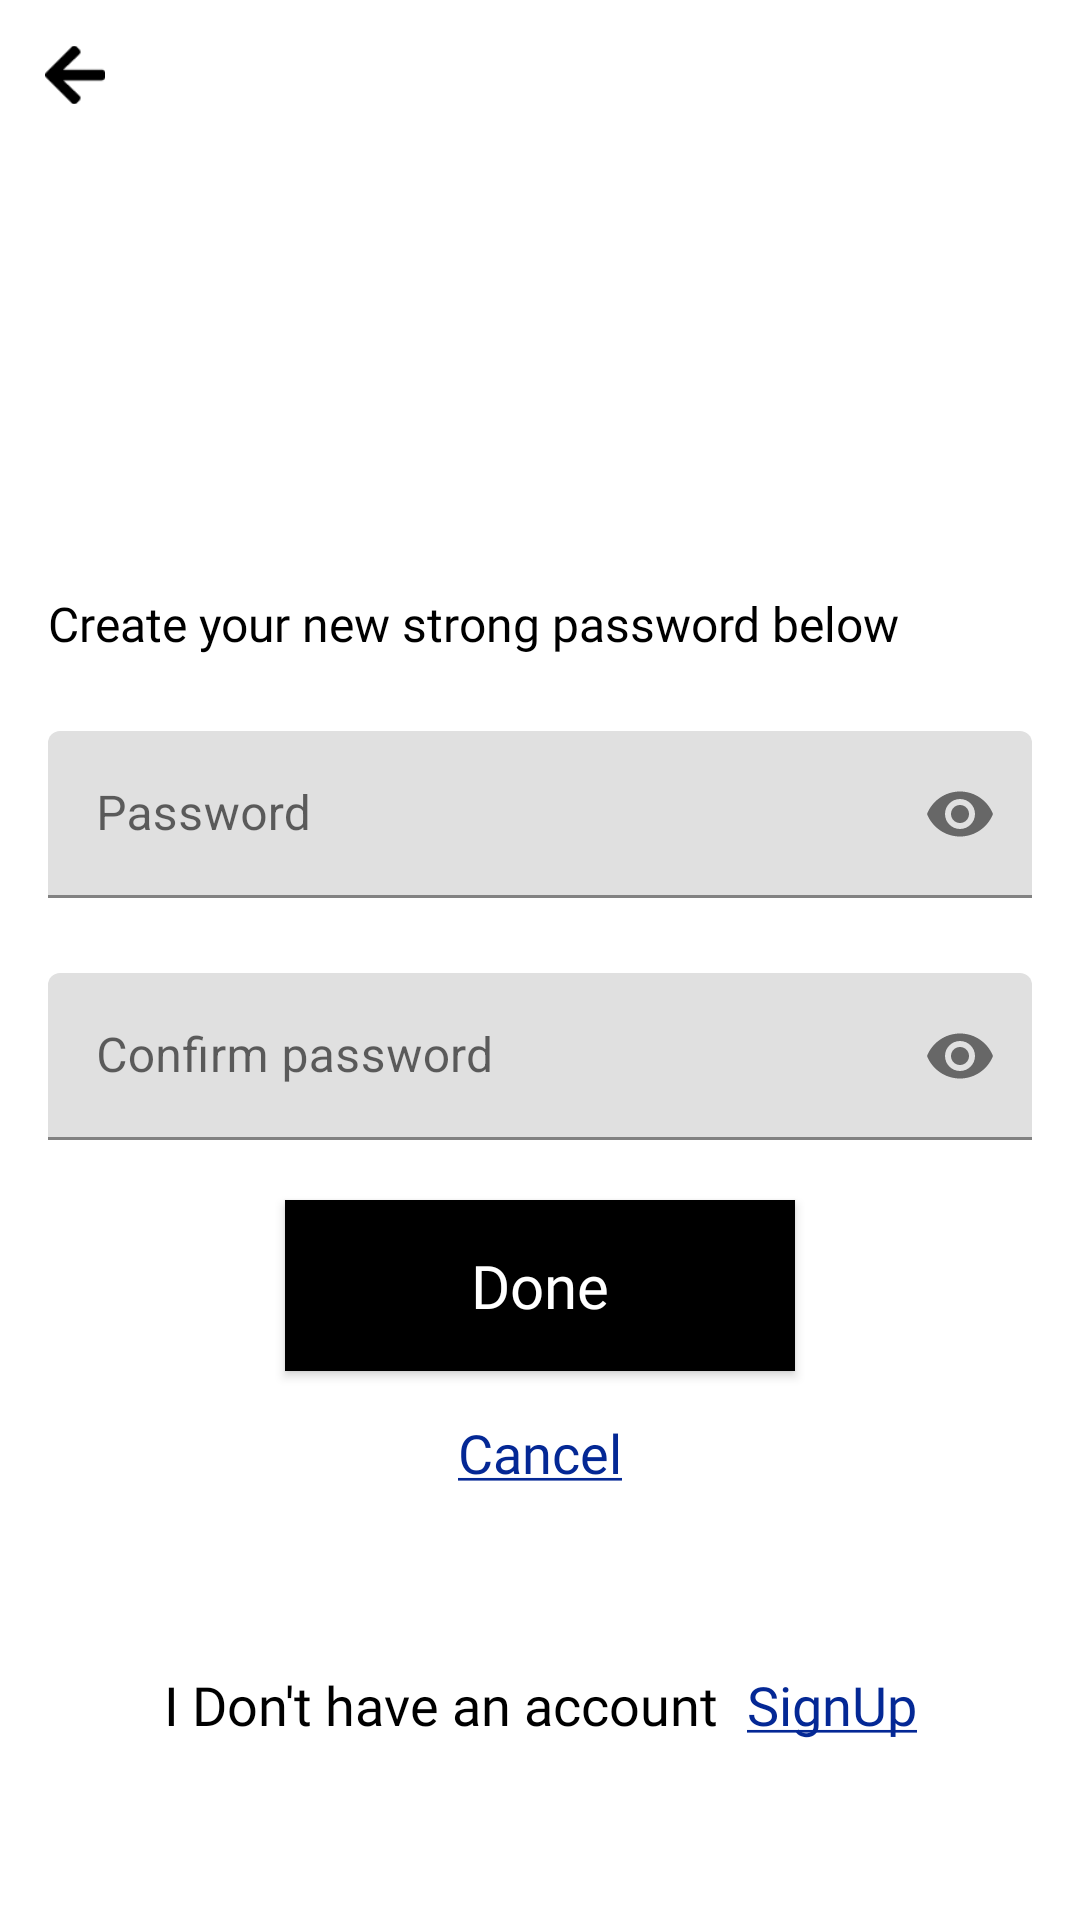

Screen size 1080px x 1920px. Icon name, then its box in pixels as rect(x1, y1, x2, y2):
back: rect(45, 46, 105, 104)
